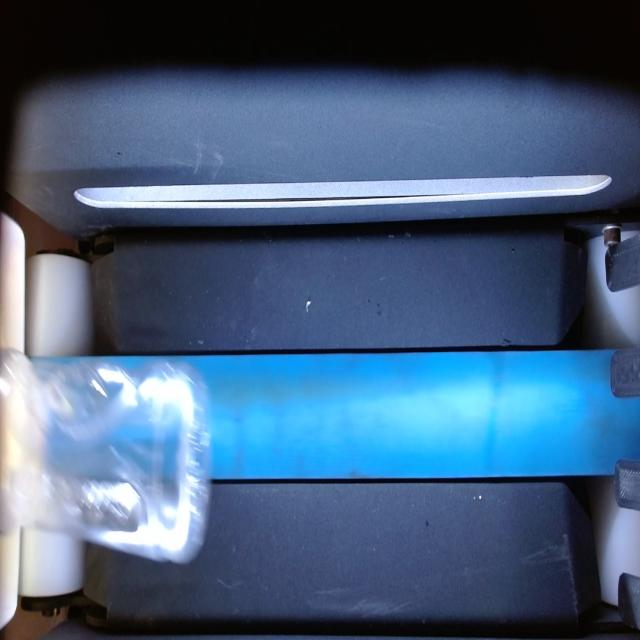bottom: (0, 349, 210, 562)
